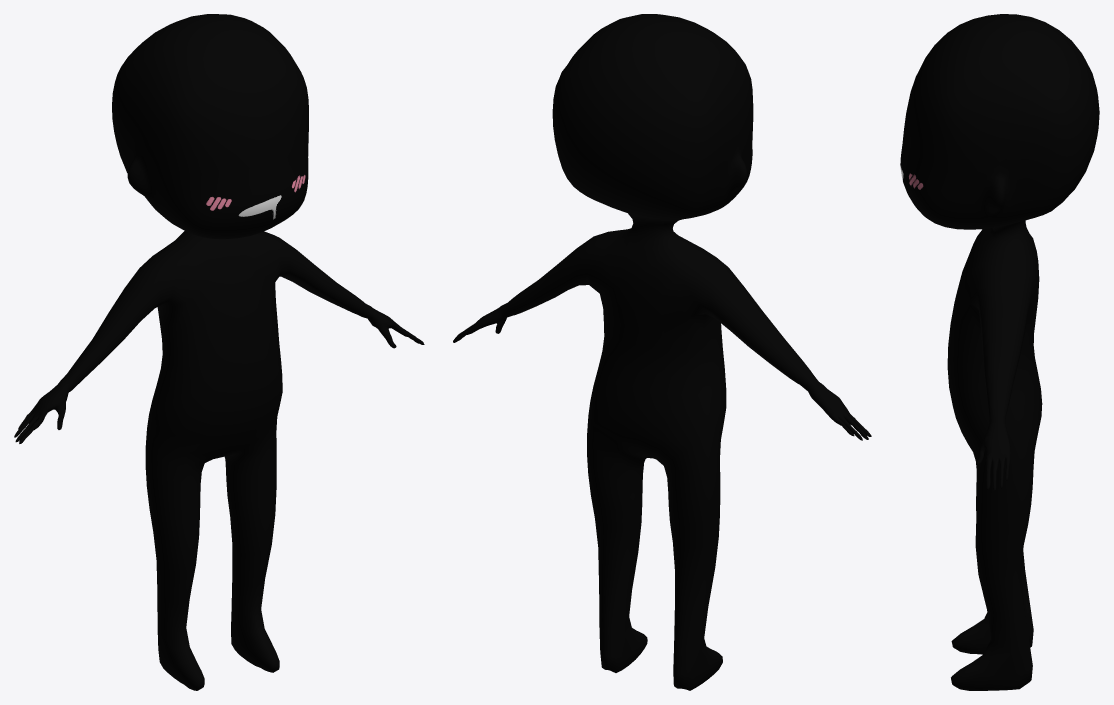
3 renders of one model, left to right at view 1: azimuth 30°, elevation 25°; view 2: azimuth 150°, elevation 25°; view 3: azimuth 270°, elevation 25°, orthographic.
Parts seen in each view (by area): view 1: BODY_0; view 2: BODY_0; view 3: BODY_0.
Part boxes in pixels (x1,y1,x2,y2): BODY_0: (14,14,424,690); BODY_0: (453,14,871,690); BODY_0: (900,14,1099,690).
Size of the model in its own units: 14.06 by 21.28 by 5.93.
Materials: 1 (1 with a texture image).
